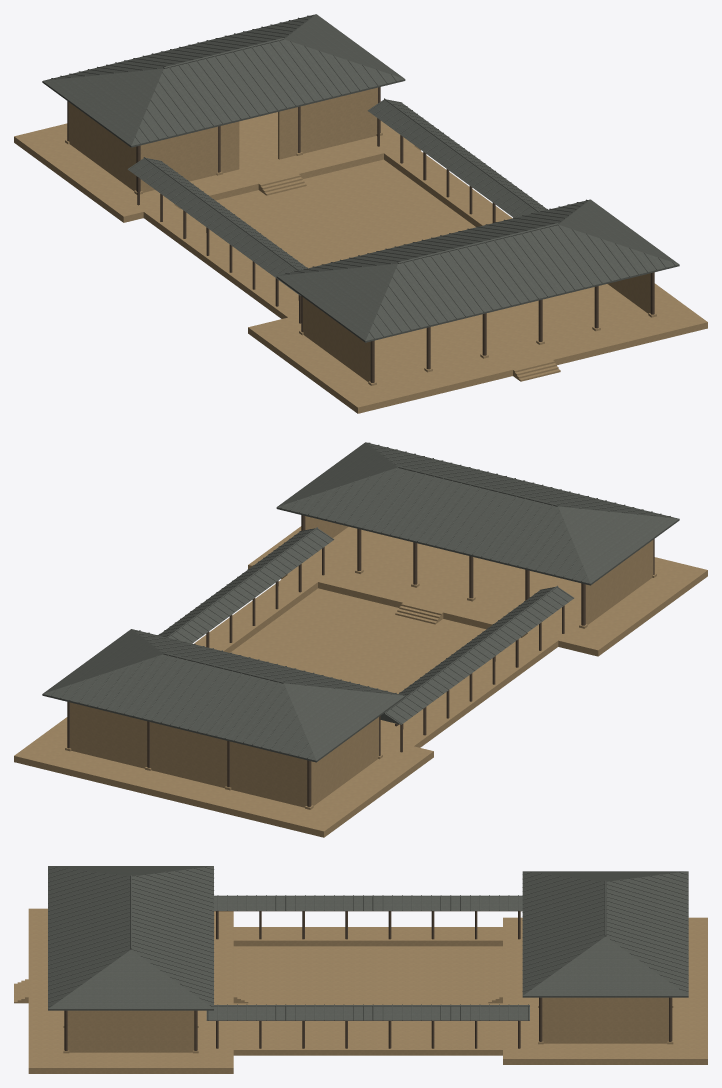
The model's file is yutang-A-LOD1.glb.
The picture shows the model from 3 angles, top to bottom: view 1: azimuth 30°, elevation 25°; view 2: azimuth 150°, elevation 25°; view 3: azimuth 270°, elevation 25°; orthographic projection. The views are drawn at different scales.
Visible parts, largest first — view 1: yutang-A-static_earth, yutang-A-static_tile, yutang-A-static_timber; view 2: yutang-A-static_earth, yutang-A-static_tile, yutang-A-static_timber; view 3: yutang-A-static_earth, yutang-A-static_tile, yutang-A-static_timber.
Part boxes in pixels (x1,y1,x2,y2): yutang-A-static_earth: (14, 87, 707, 413); yutang-A-static_tile: (42, 14, 679, 342); yutang-A-static_timber: (67, 87, 654, 382); yutang-A-static_earth: (14, 516, 707, 837); yutang-A-static_tile: (42, 442, 679, 762); yutang-A-static_timber: (67, 515, 654, 806); yutang-A-static_earth: (14, 908, 707, 1073); yutang-A-static_tile: (48, 866, 688, 1020); yutang-A-static_timber: (64, 911, 672, 1050).
Bounding box in the file's own units: 35 × 9.08 × 64.36.
Materials: 3 (3 with a texture image).
